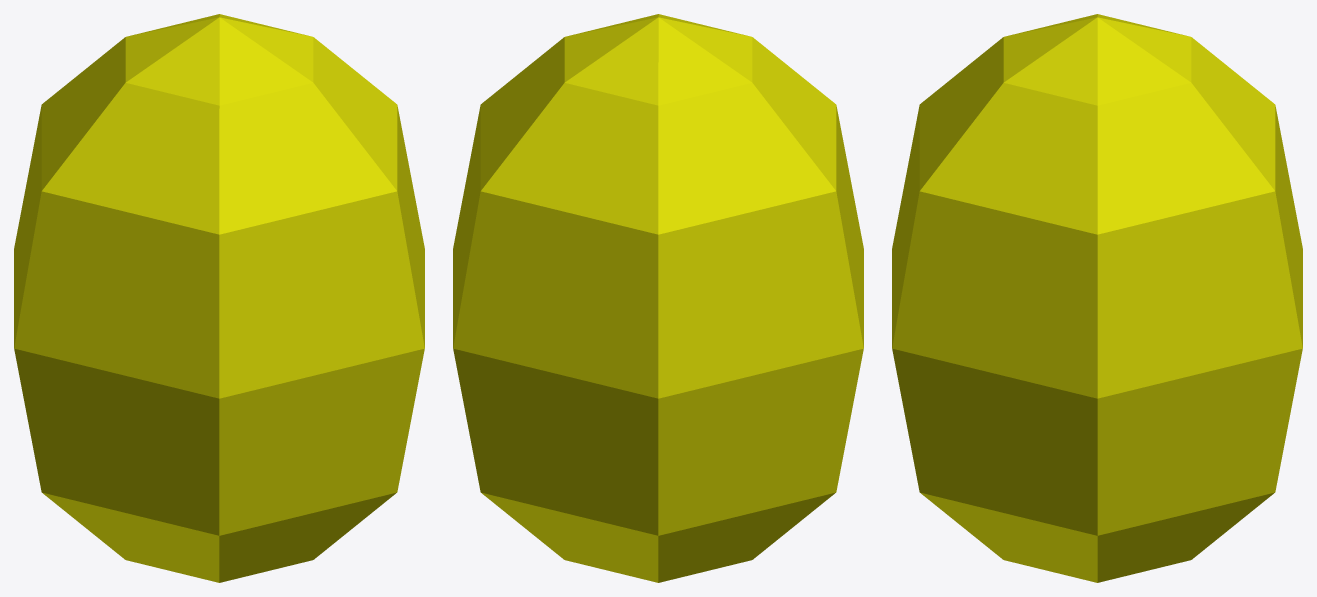
File: lemon.fbx
3 renders of one model, left to right at view 1: azimuth 30°, elevation 25°; view 2: azimuth 150°, elevation 25°; view 3: azimuth 270°, elevation 25°, orthographic.
Parts seen in each view (by area): view 1: lemon; view 2: lemon; view 3: lemon.
Boxes of the visible parts, x1,y1,x2,y2 form: lemon: (14, 14, 424, 582); lemon: (453, 14, 863, 582); lemon: (892, 14, 1302, 582).
Size of the model in its own units: 33.66 by 44.04 by 29.15.
